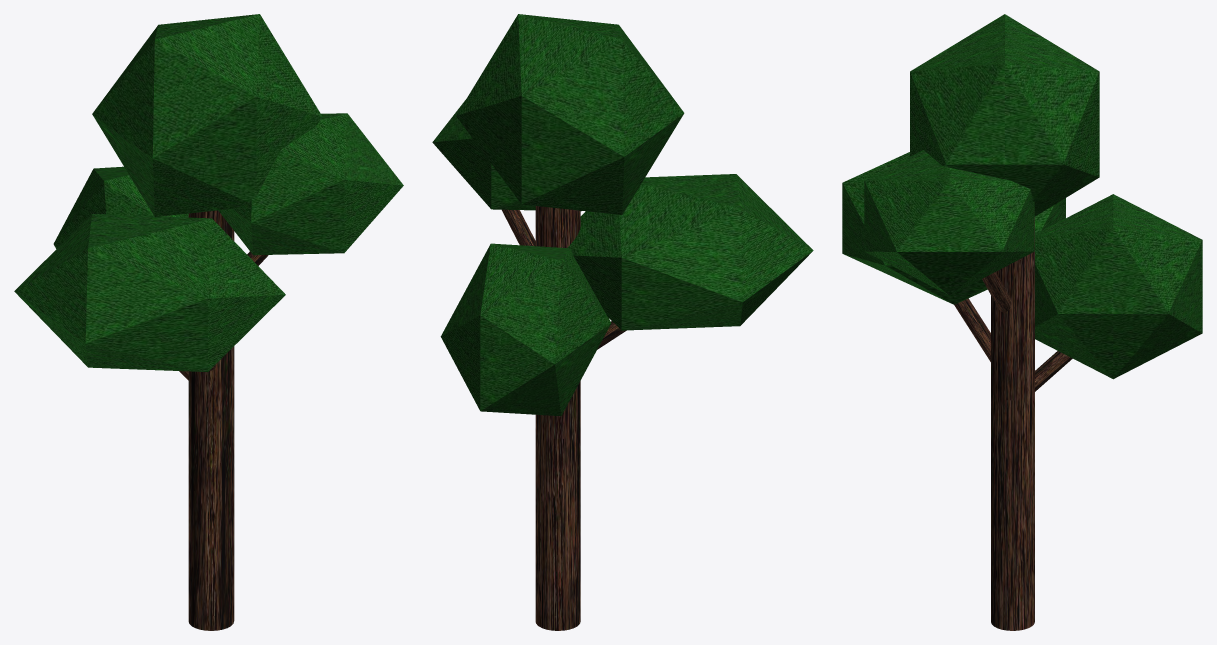
3 renders of one model, left to right at view 1: azimuth 30°, elevation 25°; view 2: azimuth 150°, elevation 25°; view 3: azimuth 270°, elevation 25°, orthographic. The views are drawn at different scales.
Visible parts, largest first — view 1: Cylinder57_Detached, Cylinder57; view 2: Cylinder57_Detached, Cylinder57; view 3: Cylinder57_Detached, Cylinder57.
Boxes of the visible parts, x1,y1,x2,y2 form: Cylinder57_Detached: (14, 14, 403, 371); Cylinder57: (179, 210, 268, 630); Cylinder57_Detached: (432, 14, 813, 416); Cylinder57: (502, 206, 626, 630); Cylinder57_Detached: (842, 14, 1202, 379); Cylinder57: (954, 217, 1072, 630).
Size of the model in its own units: 8.2 by 14.49 by 8.17.
2 materials, 2 textured.
